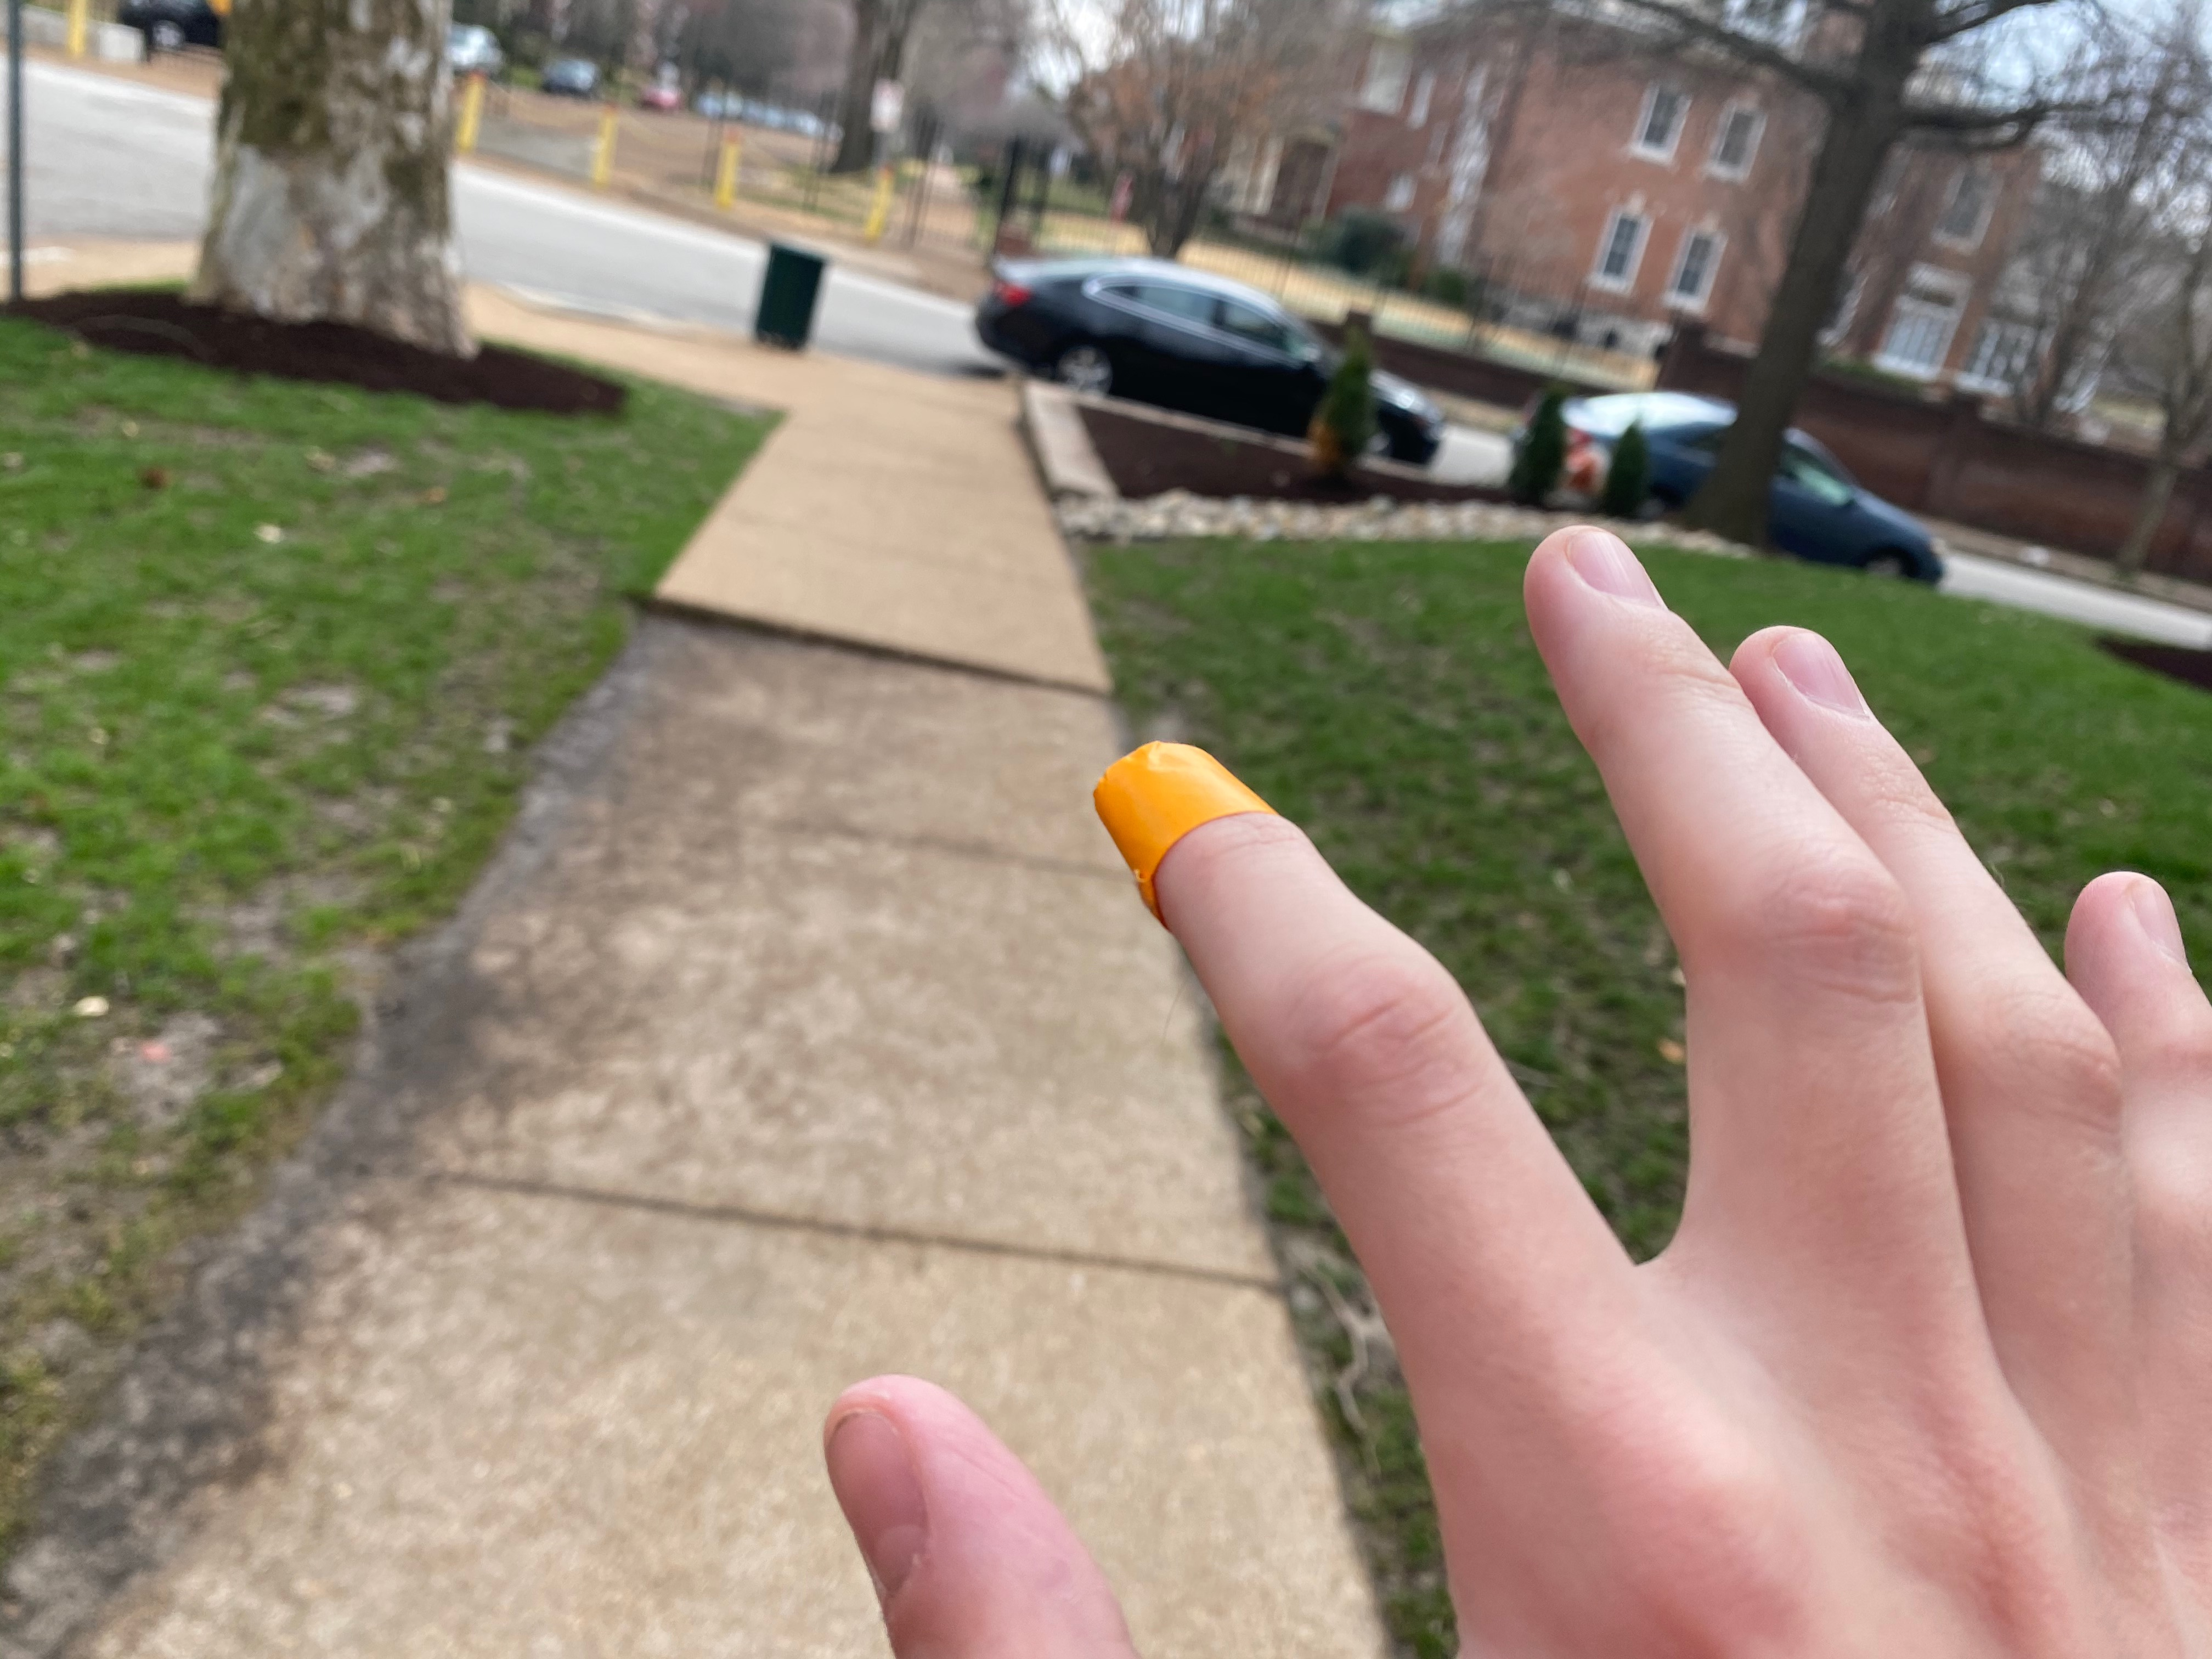fingertip: (1062, 720, 1352, 931)
